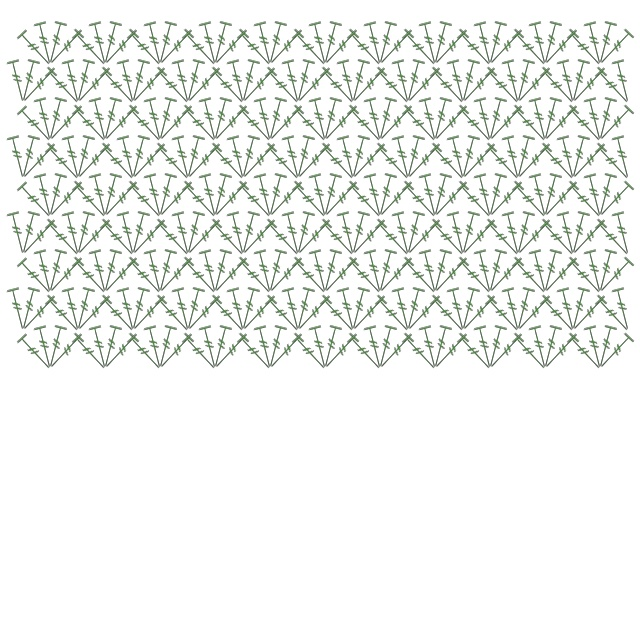fan: (16, 27, 57, 69), (45, 27, 86, 69), (71, 27, 112, 69), (100, 27, 141, 69), (126, 27, 167, 69), (155, 27, 196, 69), (181, 27, 222, 69), (210, 27, 251, 69), (236, 27, 277, 69), (265, 27, 306, 69), (291, 27, 332, 69), (320, 27, 361, 69), (346, 27, 387, 69), (375, 27, 416, 69), (401, 27, 442, 69), (430, 27, 471, 69), (456, 27, 497, 69), (485, 27, 526, 69), (511, 27, 552, 69), (540, 27, 581, 69), (566, 27, 607, 69), (595, 27, 636, 69), (18, 65, 59, 107), (44, 65, 85, 107), (73, 65, 114, 107), (99, 65, 140, 107), (128, 65, 169, 107), (154, 65, 195, 107), (183, 65, 224, 107), (209, 65, 250, 107), (238, 65, 279, 107), (264, 65, 305, 107), (293, 65, 334, 107), (319, 65, 360, 107), (348, 65, 389, 107), (374, 65, 415, 107), (403, 65, 444, 107), (429, 65, 470, 107), (458, 65, 499, 107), (484, 65, 525, 107), (513, 65, 554, 107), (539, 65, 580, 107), (568, 65, 609, 107), (594, 65, 635, 107), (16, 103, 57, 145), (45, 103, 86, 145), (71, 103, 112, 145), (100, 103, 141, 145), (126, 103, 167, 145), (155, 103, 196, 145), (181, 103, 222, 145), (210, 103, 251, 145), (236, 103, 277, 145), (265, 103, 306, 145), (291, 103, 332, 145), (320, 103, 361, 145), (346, 103, 387, 145), (375, 103, 416, 145), (401, 103, 442, 145), (430, 103, 471, 145), (456, 103, 497, 145), (485, 103, 526, 145), (511, 103, 552, 145), (540, 103, 581, 145), (566, 103, 607, 145), (595, 103, 636, 145), (18, 141, 59, 183), (44, 141, 85, 183), (73, 141, 114, 183), (99, 141, 140, 183), (128, 141, 169, 183), (154, 141, 195, 183), (183, 141, 224, 183), (209, 141, 250, 183), (238, 141, 279, 183), (264, 141, 305, 183), (293, 141, 334, 183), (319, 141, 360, 183), (348, 141, 389, 183), (374, 141, 415, 183), (403, 141, 444, 183), (429, 141, 470, 183), (458, 141, 499, 183), (484, 141, 525, 183), (513, 141, 554, 183), (539, 141, 580, 183), (568, 141, 609, 183), (594, 141, 635, 183), (16, 179, 57, 221), (45, 179, 86, 221), (71, 179, 112, 221), (100, 179, 141, 221), (126, 179, 167, 221), (155, 179, 196, 221), (181, 179, 222, 221), (210, 179, 251, 221), (236, 179, 277, 221), (265, 179, 306, 221), (291, 179, 332, 221), (320, 179, 361, 221), (346, 179, 387, 221), (375, 179, 416, 221), (401, 179, 442, 221), (430, 179, 471, 221), (456, 179, 497, 221), (485, 179, 526, 221), (511, 179, 552, 221), (540, 179, 581, 221), (566, 179, 607, 221), (595, 179, 636, 221), (18, 217, 59, 259), (44, 217, 85, 259), (73, 217, 114, 259), (99, 217, 140, 259), (128, 217, 169, 259), (154, 217, 195, 259), (183, 217, 224, 259), (209, 217, 250, 259), (238, 217, 279, 259), (264, 217, 305, 259), (293, 217, 334, 259), (319, 217, 360, 259), (348, 217, 389, 259), (374, 217, 415, 259), (403, 217, 444, 259), (429, 217, 470, 259), (458, 217, 499, 259), (484, 217, 525, 259), (513, 217, 554, 259), (539, 217, 580, 259), (568, 217, 609, 259), (594, 217, 635, 259), (16, 255, 57, 297), (45, 255, 86, 297), (71, 255, 112, 297), (100, 255, 141, 297), (126, 255, 167, 297), (155, 255, 196, 297), (181, 255, 222, 297), (210, 255, 251, 297), (236, 255, 277, 297), (265, 255, 306, 297), (291, 255, 332, 297), (320, 255, 361, 297), (346, 255, 387, 297), (375, 255, 416, 297), (401, 255, 442, 297), (430, 255, 471, 297), (456, 255, 497, 297), (485, 255, 526, 297), (511, 255, 552, 297), (540, 255, 581, 297), (566, 255, 607, 297), (595, 255, 636, 297), (18, 293, 59, 335), (44, 293, 85, 335), (73, 293, 114, 335), (99, 293, 140, 335), (128, 293, 169, 335), (154, 293, 195, 335), (183, 293, 224, 335), (209, 293, 250, 335), (238, 293, 279, 335), (264, 293, 305, 335), (293, 293, 334, 335), (319, 293, 360, 335), (348, 293, 389, 335), (374, 293, 415, 335), (403, 293, 444, 335), (429, 293, 470, 335), (458, 293, 499, 335), (484, 293, 525, 335), (513, 293, 554, 335), (539, 293, 580, 335), (568, 293, 609, 335), (594, 293, 635, 335), (16, 331, 57, 373), (45, 331, 86, 373), (71, 331, 112, 373), (100, 331, 141, 373), (126, 331, 167, 373), (155, 331, 196, 373), (181, 331, 222, 373), (210, 331, 251, 373), (236, 331, 277, 373), (265, 331, 306, 373), (291, 331, 332, 373), (320, 331, 361, 373), (346, 331, 387, 373), (375, 331, 416, 373), (401, 331, 442, 373), (430, 331, 471, 373), (456, 331, 497, 373), (485, 331, 526, 373), (511, 331, 552, 373), (540, 331, 581, 373), (566, 331, 607, 373), (595, 331, 636, 373), (33, 20, 59, 66), (43, 20, 69, 66), (88, 20, 114, 66), (98, 20, 124, 66), (143, 20, 169, 66), (153, 20, 179, 66), (198, 20, 224, 66), (208, 20, 234, 66), (253, 20, 279, 66), (263, 20, 289, 66), (308, 20, 334, 66), (318, 20, 344, 66), (363, 20, 389, 66), (373, 20, 399, 66), (418, 20, 444, 66), (428, 20, 454, 66), (473, 20, 499, 66), (483, 20, 509, 66), (528, 20, 554, 66), (538, 20, 564, 66), (583, 20, 609, 66), (593, 20, 619, 66), (6, 58, 32, 104), (16, 58, 42, 104), (61, 58, 87, 104), (71, 58, 97, 104), (116, 58, 142, 104), (126, 58, 152, 104), (171, 58, 197, 104), (181, 58, 207, 104), (226, 58, 252, 104), (236, 58, 262, 104), (281, 58, 307, 104), (291, 58, 317, 104), (336, 58, 362, 104), (346, 58, 372, 104), (391, 58, 417, 104), (401, 58, 427, 104), (446, 58, 472, 104), (456, 58, 482, 104), (501, 58, 527, 104), (511, 58, 537, 104), (556, 58, 582, 104), (566, 58, 592, 104), (611, 58, 637, 104), (33, 96, 59, 142), (43, 96, 69, 142), (88, 96, 114, 142), (98, 96, 124, 142), (143, 96, 169, 142), (153, 96, 179, 142), (198, 96, 224, 142), (208, 96, 234, 142), (253, 96, 279, 142), (263, 96, 289, 142), (308, 96, 334, 142), (318, 96, 344, 142), (363, 96, 389, 142), (373, 96, 399, 142), (418, 96, 444, 142), (428, 96, 454, 142), (473, 96, 499, 142), (483, 96, 509, 142), (528, 96, 554, 142), (538, 96, 564, 142), (583, 96, 609, 142), (593, 96, 619, 142), (6, 134, 32, 180), (16, 134, 42, 180), (61, 134, 87, 180), (71, 134, 97, 180), (116, 134, 142, 180), (126, 134, 152, 180), (171, 134, 197, 180), (181, 134, 207, 180), (226, 134, 252, 180), (236, 134, 262, 180), (281, 134, 307, 180), (291, 134, 317, 180), (336, 134, 362, 180), (346, 134, 372, 180), (391, 134, 417, 180), (401, 134, 427, 180), (446, 134, 472, 180), (456, 134, 482, 180), (501, 134, 527, 180), (511, 134, 537, 180), (556, 134, 582, 180), (566, 134, 592, 180), (611, 134, 637, 180), (33, 172, 59, 218), (43, 172, 69, 218), (88, 172, 114, 218), (98, 172, 124, 218), (143, 172, 169, 218), (153, 172, 179, 218), (198, 172, 224, 218), (208, 172, 234, 218), (253, 172, 279, 218), (263, 172, 289, 218), (308, 172, 334, 218), (318, 172, 344, 218), (363, 172, 389, 218), (373, 172, 399, 218), (418, 172, 444, 218), (428, 172, 454, 218), (473, 172, 499, 218), (483, 172, 509, 218), (528, 172, 554, 218), (538, 172, 564, 218), (583, 172, 609, 218), (593, 172, 619, 218), (6, 210, 32, 256), (16, 210, 42, 256), (61, 210, 87, 256), (71, 210, 97, 256), (116, 210, 142, 256), (126, 210, 152, 256), (171, 210, 197, 256), (181, 210, 207, 256), (226, 210, 252, 256), (236, 210, 262, 256), (281, 210, 307, 256), (291, 210, 317, 256), (336, 210, 362, 256), (346, 210, 372, 256), (391, 210, 417, 256), (401, 210, 427, 256), (446, 210, 472, 256), (456, 210, 482, 256), (501, 210, 527, 256), (511, 210, 537, 256), (556, 210, 582, 256), (566, 210, 592, 256), (611, 210, 637, 256), (33, 248, 59, 294), (43, 248, 69, 294), (88, 248, 114, 294), (98, 248, 124, 294), (143, 248, 169, 294), (153, 248, 179, 294), (198, 248, 224, 294), (208, 248, 234, 294), (253, 248, 279, 294), (263, 248, 289, 294), (308, 248, 334, 294), (318, 248, 344, 294), (363, 248, 389, 294), (373, 248, 399, 294), (418, 248, 444, 294), (428, 248, 454, 294), (473, 248, 499, 294), (483, 248, 509, 294), (528, 248, 554, 294), (538, 248, 564, 294), (583, 248, 609, 294), (593, 248, 619, 294), (6, 286, 32, 332), (16, 286, 42, 332), (61, 286, 87, 332), (71, 286, 97, 332), (116, 286, 142, 332), (126, 286, 152, 332), (171, 286, 197, 332), (181, 286, 207, 332), (226, 286, 252, 332), (236, 286, 262, 332), (281, 286, 307, 332), (291, 286, 317, 332), (336, 286, 362, 332), (346, 286, 372, 332), (391, 286, 417, 332), (401, 286, 427, 332), (446, 286, 472, 332), (456, 286, 482, 332), (501, 286, 527, 332), (511, 286, 537, 332), (556, 286, 582, 332), (566, 286, 592, 332), (611, 286, 637, 332), (33, 324, 59, 370), (43, 324, 69, 370), (88, 324, 114, 370), (98, 324, 124, 370), (143, 324, 169, 370), (153, 324, 179, 370), (198, 324, 224, 370), (208, 324, 234, 370), (253, 324, 279, 370), (263, 324, 289, 370), (308, 324, 334, 370), (318, 324, 344, 370), (363, 324, 389, 370), (373, 324, 399, 370), (418, 324, 444, 370), (428, 324, 454, 370), (473, 324, 499, 370), (483, 324, 509, 370), (528, 324, 554, 370), (538, 324, 564, 370), (583, 324, 609, 370), (593, 324, 619, 370)
